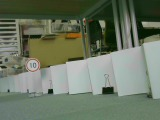speed_10: (25, 57, 41, 72)
